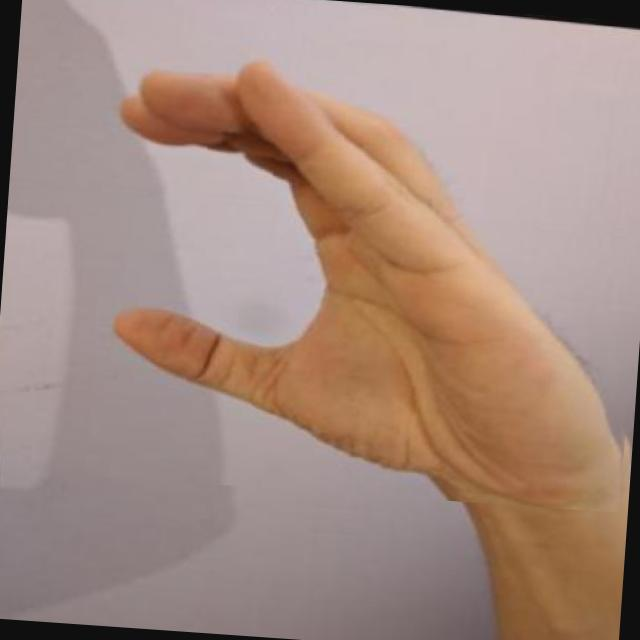C: (84, 31, 640, 513)
